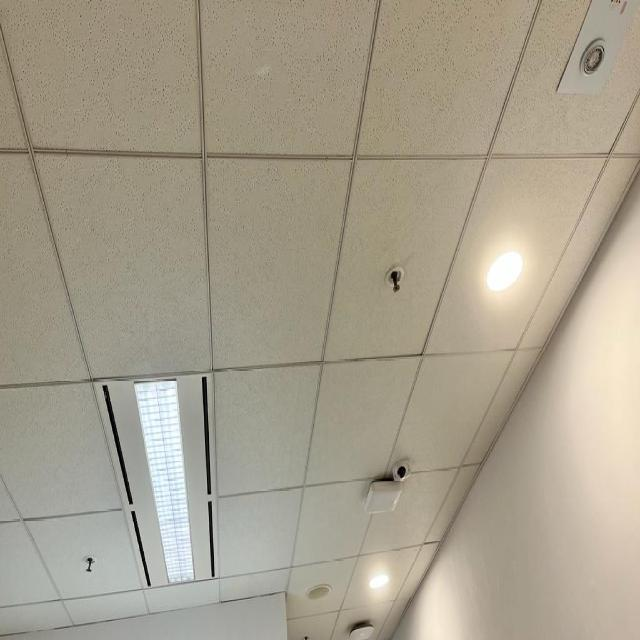Light-Opened: (90, 369, 222, 592), (483, 247, 525, 296), (367, 568, 392, 592)
